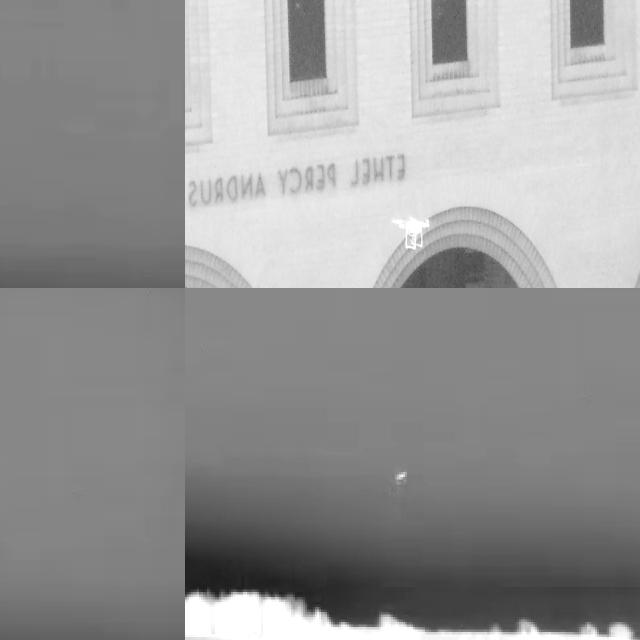1: (383, 460, 419, 502)
drone: (396, 213, 434, 256)
